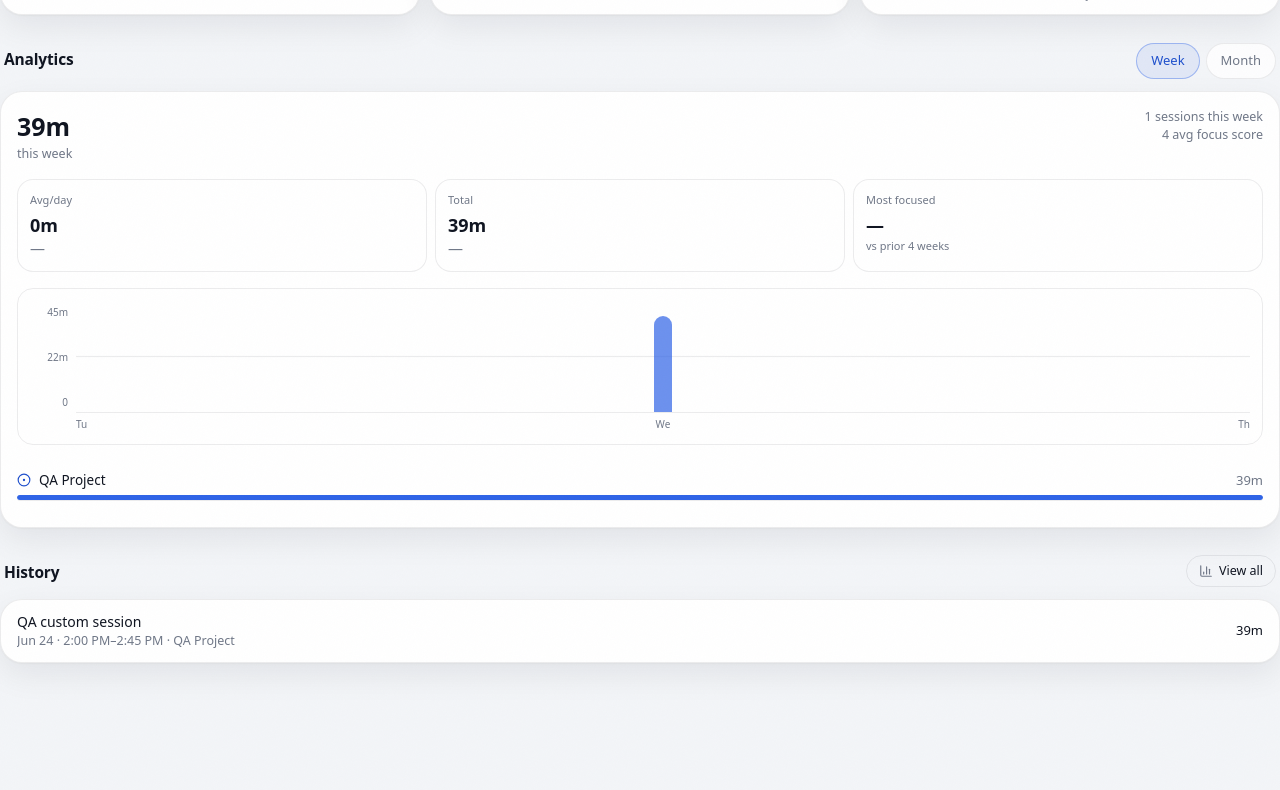
Scenario: FocusPage › opens history details with clickable days, project split, and sessions
(page scrolled)
Step 1. Click the button "View all" → (1231, 571), box [1186,555,1276,587]
(page scrolled)
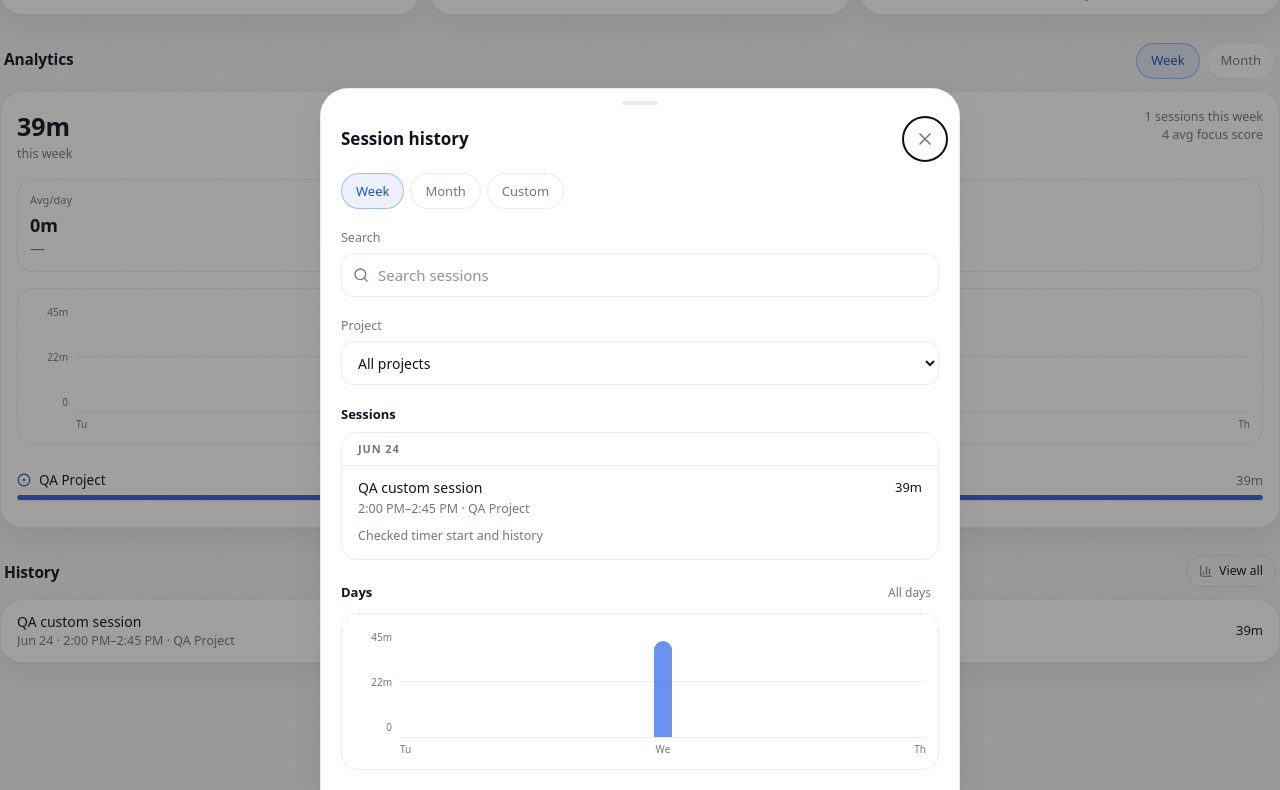
Expected: the heading "Session history" is shown, [341,127,469,151]
Expected: the heading "Days" is shown, [341,583,372,602]
Expected: the text "Checked timer start and history" is shown, [358,528,543,544]
